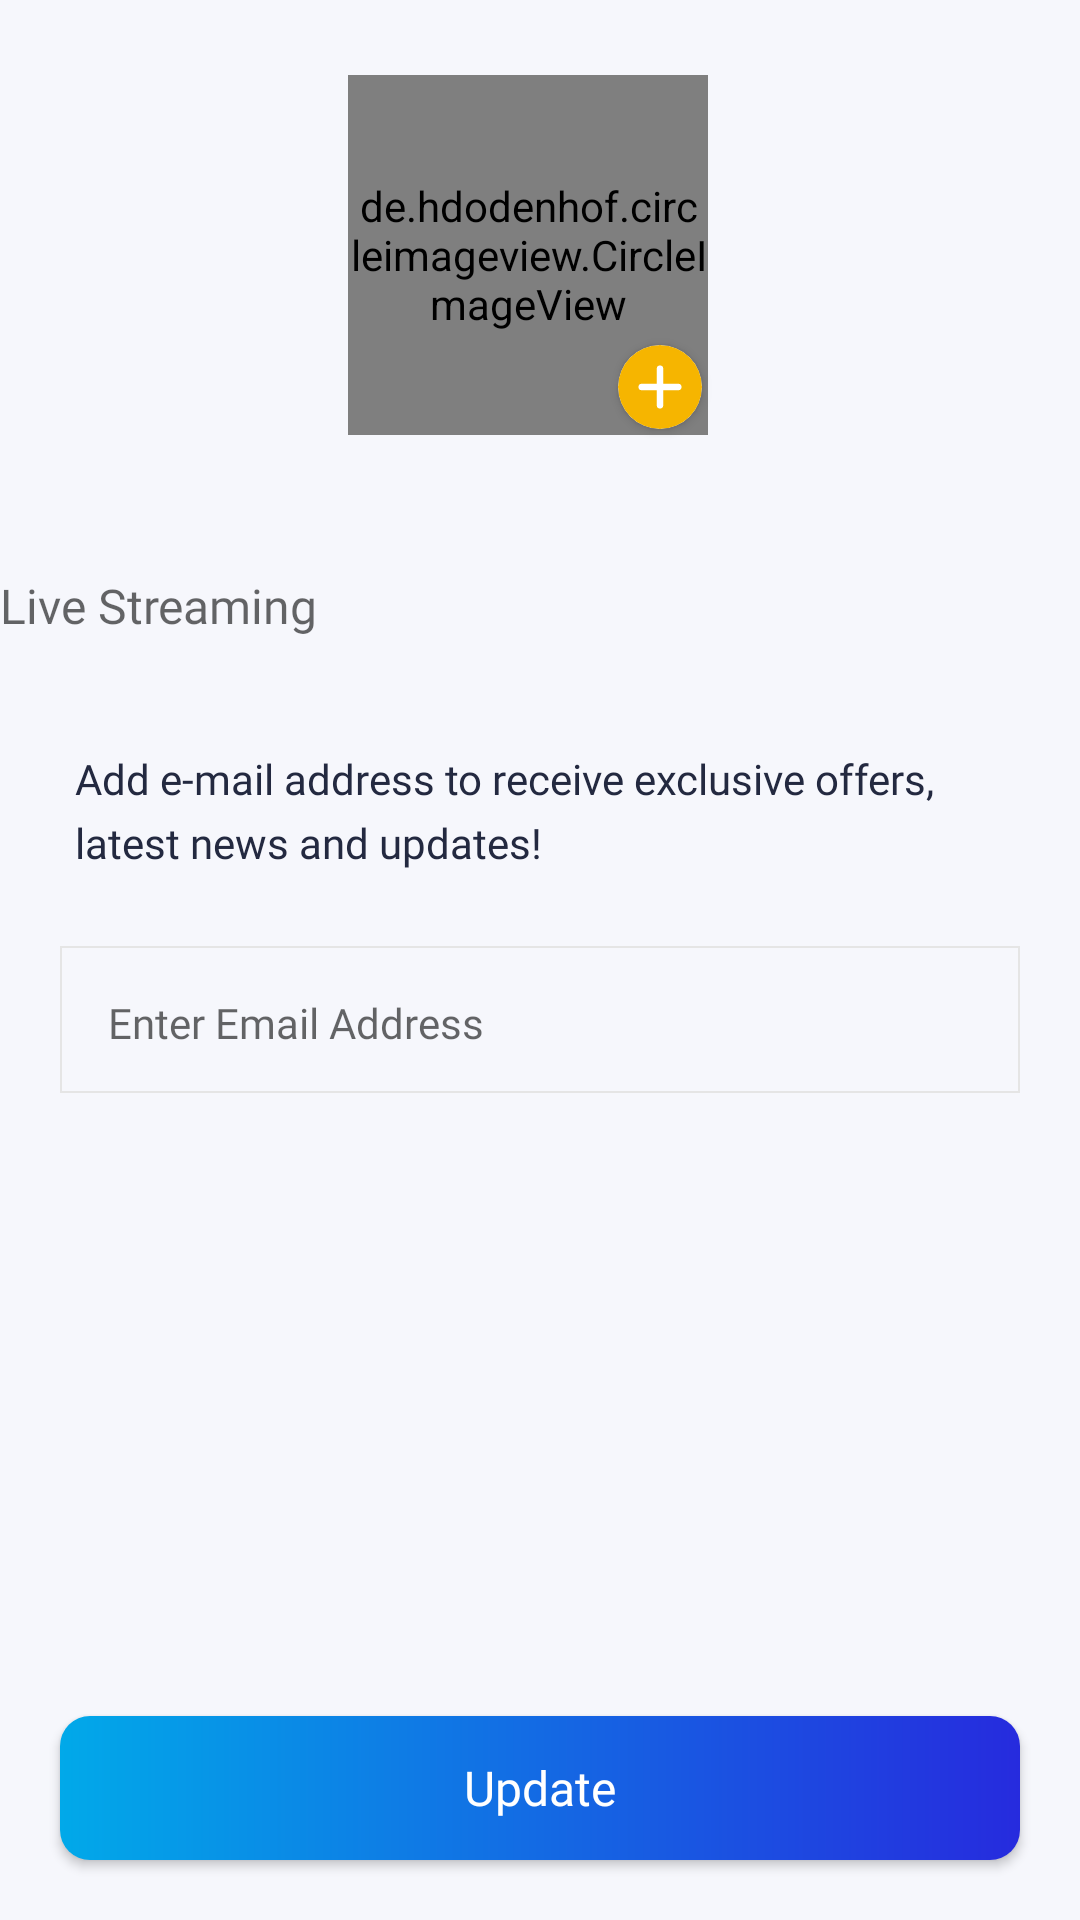

Locate icon controls on the screen. Image size 1080w x 1920h, boxes as Rect(x1, y1, x2, y2).
add circle: Rect(618, 345, 702, 429)
